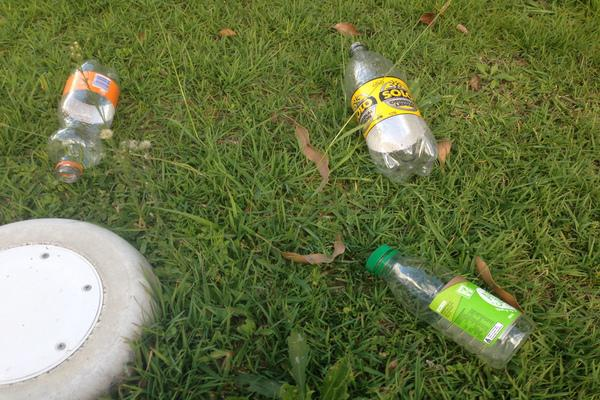Plastic Bottle: (365, 244, 535, 367), (343, 42, 440, 185), (49, 58, 120, 184)
